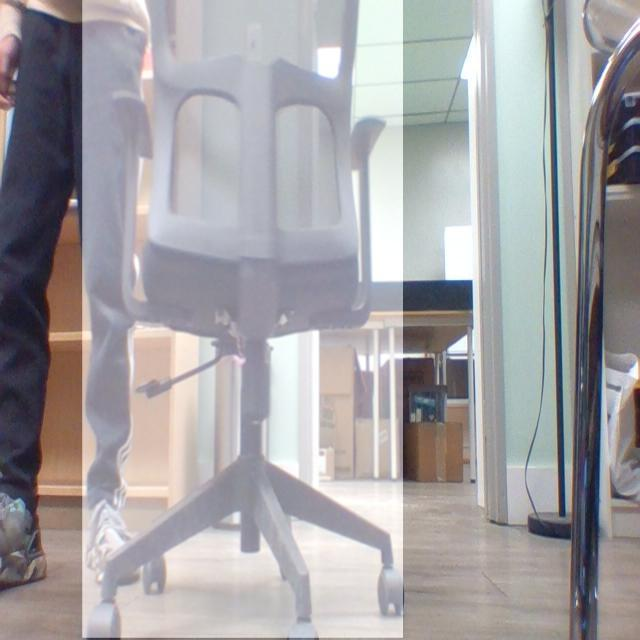chair: (80, 1, 399, 640)
